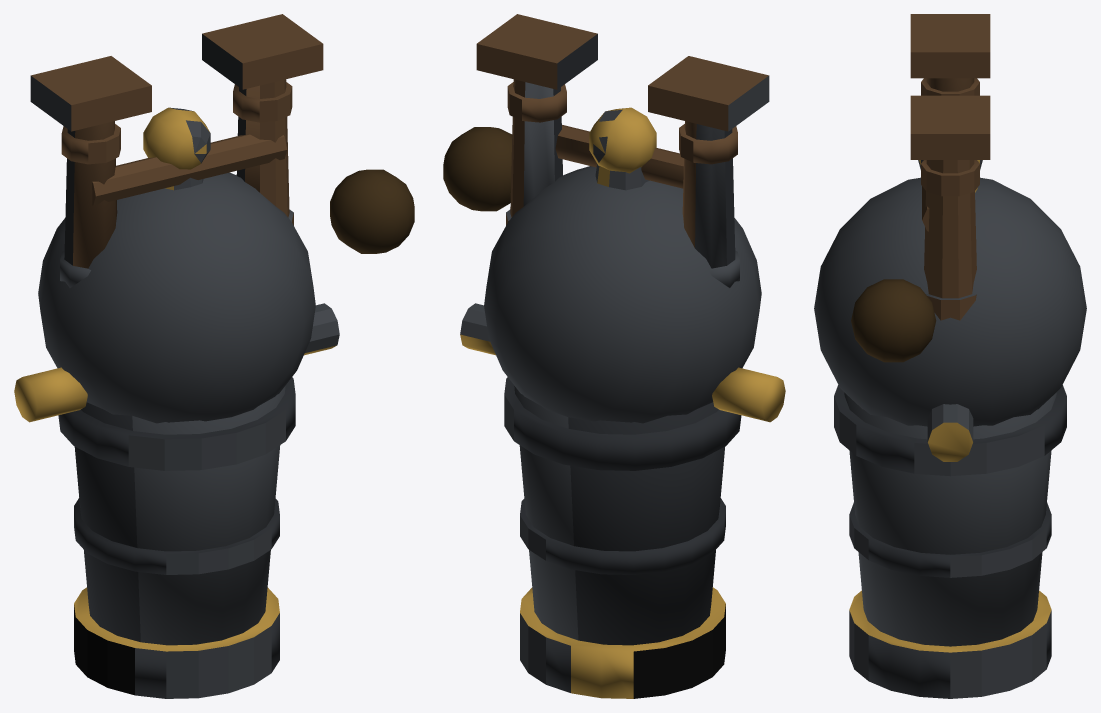
Rendered from cannon.glb.
3 renders of one model, left to right at view 1: azimuth 30°, elevation 25°; view 2: azimuth 150°, elevation 25°; view 3: azimuth 270°, elevation 25°, orthographic. The views are drawn at different scales.
Visible parts, largest first — view 1: cannon_barrel, cannon_frame, cannon_lamp; view 2: cannon_barrel, cannon_frame, cannon_lamp; view 3: cannon_barrel, cannon_frame, cannon_lamp.
Boxes of the visible parts, x1,y1,x2,y2 form: cannon_barrel: (14,107,339,698); cannon_frame: (30,14,323,287); cannon_lamp: (330,169,414,253); cannon_barrel: (460,107,785,698); cannon_frame: (476,14,769,287); cannon_lamp: (443,127,512,211); cannon_barrel: (814,160,1086,698); cannon_frame: (910,14,990,320); cannon_lamp: (851,279,936,362).
Bounding box in the file's own units: 0.7013 × 1.13 × 0.48.
